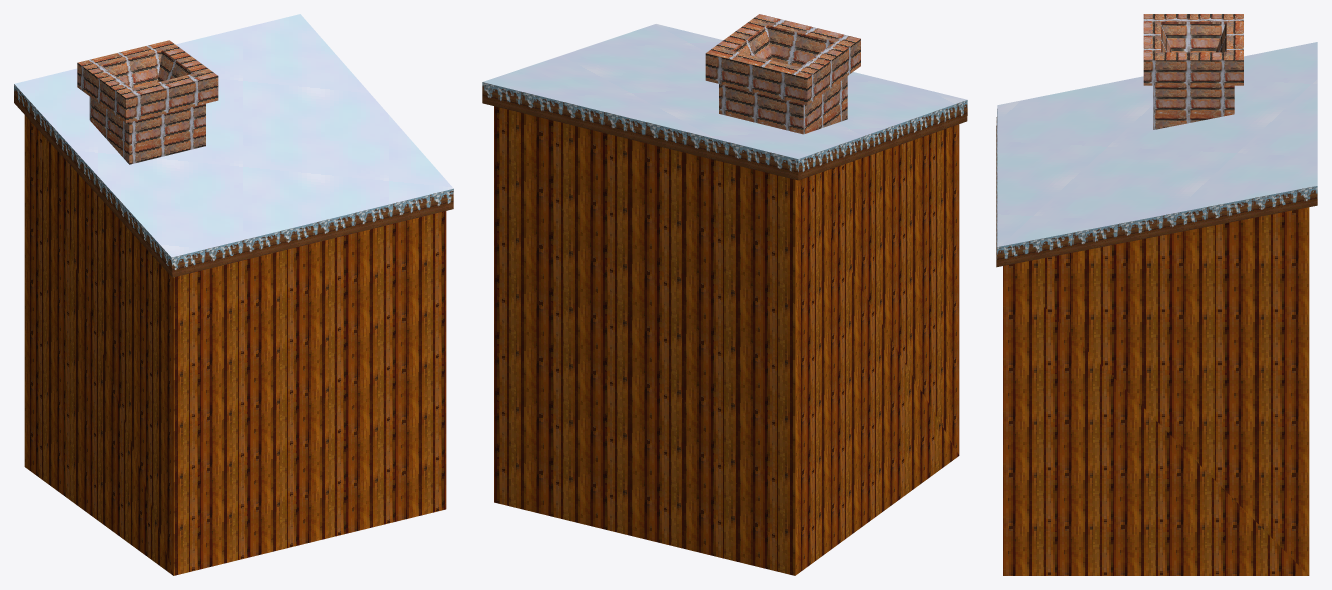
The model's file is House.FBX.
The picture shows the model from 3 angles, left to right: view 1: azimuth 30°, elevation 25°; view 2: azimuth 150°, elevation 25°; view 3: azimuth 270°, elevation 25°; orthographic projection. The views are drawn at different scales.
Parts seen in each view (by area): view 1: House_part3, House_part0, House_part2, House_part1; view 2: House_part3, House_part0, House_part2, House_part1; view 3: House_part3, House_part0, House_part2, House_part1.
Boxes of the visible parts, x1,y1,x2,y2 form: House_part3: (24,115,446,575); House_part0: (14,14,453,257); House_part2: (77,40,218,164); House_part1: (14,84,453,277); House_part3: (494,106,959,575); House_part0: (483,24,967,159); House_part2: (705,14,860,134); House_part1: (482,82,967,180); House_part3: (1003,207,1309,575); House_part0: (997,42,1317,246); House_part2: (1143,14,1243,129); House_part1: (996,109,1317,267).
Size of the model in its own units: 247 by 349 by 233.
4 materials, 4 textured.
